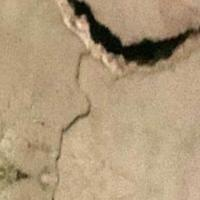crack: (56, 0, 199, 86)
